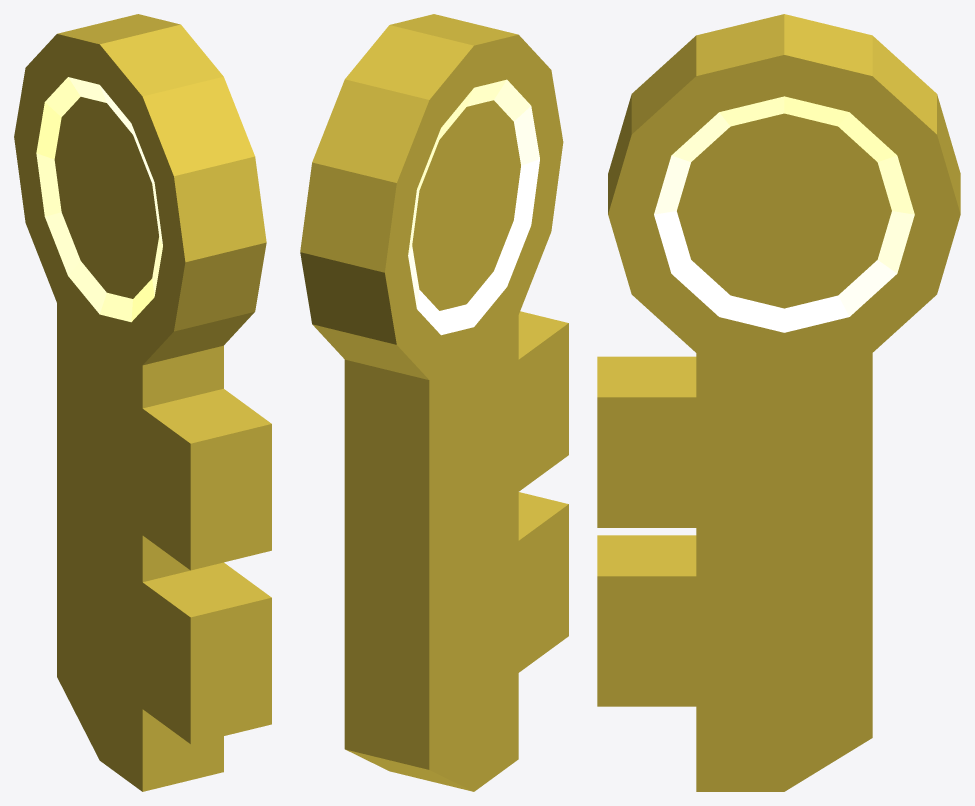
The model's file is dark-key.glb.
3 views of the same model, side by side, from view 1: azimuth 30°, elevation 25°; view 2: azimuth 150°, elevation 25°; view 3: azimuth 270°, elevation 25° (orthographic). The views are drawn at different scales.
Parts seen in each view (by area): view 1: Circle.001; view 2: Circle.001; view 3: Circle.001.
Part boxes in pixels (x1,y1,x2,y2): Circle.001: (14, 14, 271, 791); Circle.001: (300, 14, 568, 791); Circle.001: (597, 14, 960, 791).
Size of the model in its own units: 0.2946 by 2.48 by 1.11.
